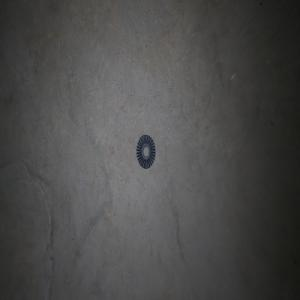Washer: (136, 134, 155, 168)
